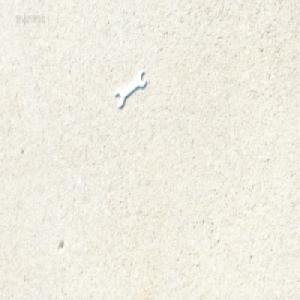Wrench: (115, 69, 148, 108)
